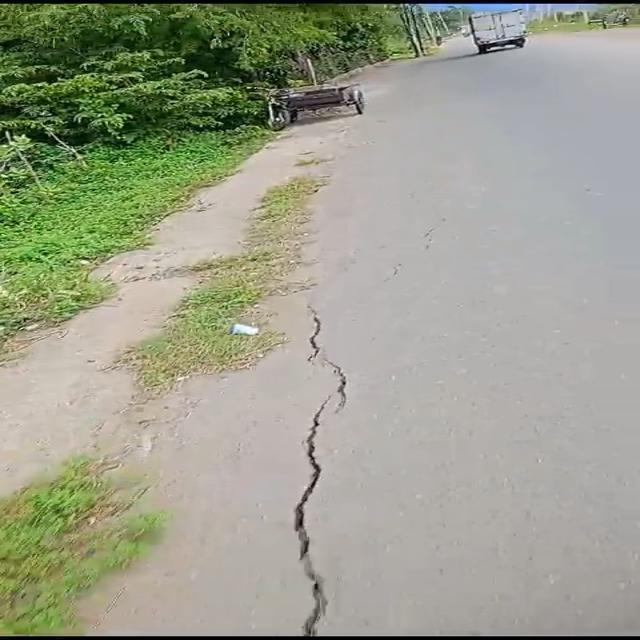Memanjang: (283, 297, 358, 640)
